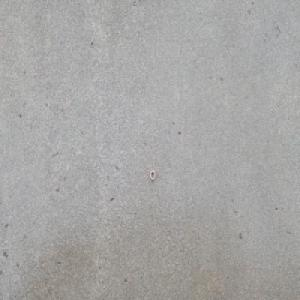Nut: (149, 168, 155, 180)
